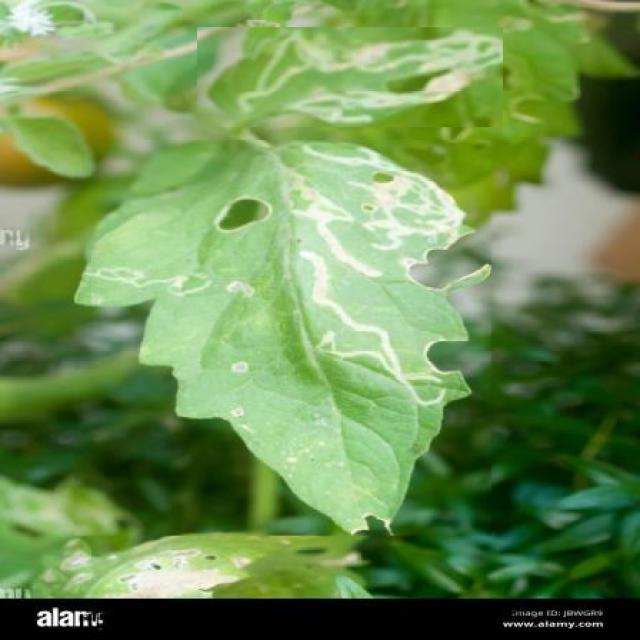Leaf Miner: (74, 140, 492, 536), (198, 28, 502, 128)
